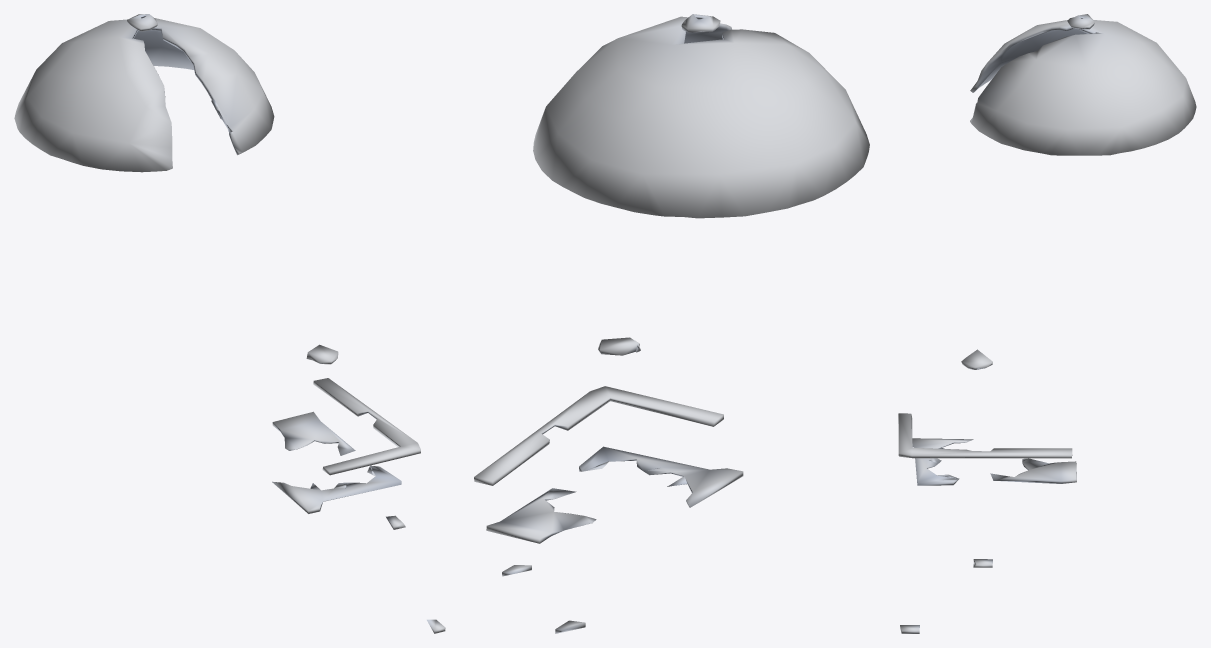
The model's file is protocol.euler.snow.glb.
3 views of the same model, side by side, from view 1: azimuth 30°, elevation 25°; view 2: azimuth 150°, elevation 25°; view 3: azimuth 270°, elevation 25° (orthographic). The views are drawn at different scales.
Visible parts, largest first — view 1: building.protocol.euler.snow.mesh; view 2: building.protocol.euler.snow.mesh; view 3: building.protocol.euler.snow.mesh.
Part boxes in pixels (x1,y1,x2,y2): building.protocol.euler.snow.mesh: (14, 14, 445, 633); building.protocol.euler.snow.mesh: (474, 14, 869, 633); building.protocol.euler.snow.mesh: (898, 14, 1196, 633).
Bounding box in the file's own units: 5.39 × 9.7 × 4.95.
